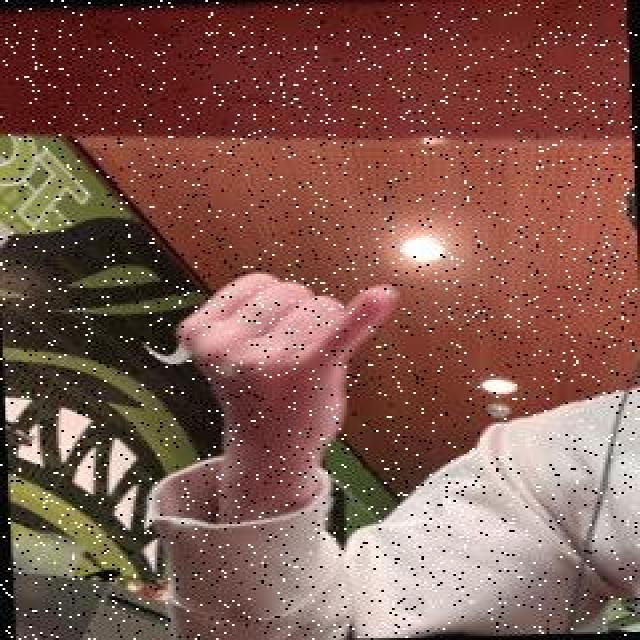J: (160, 263, 413, 463)
